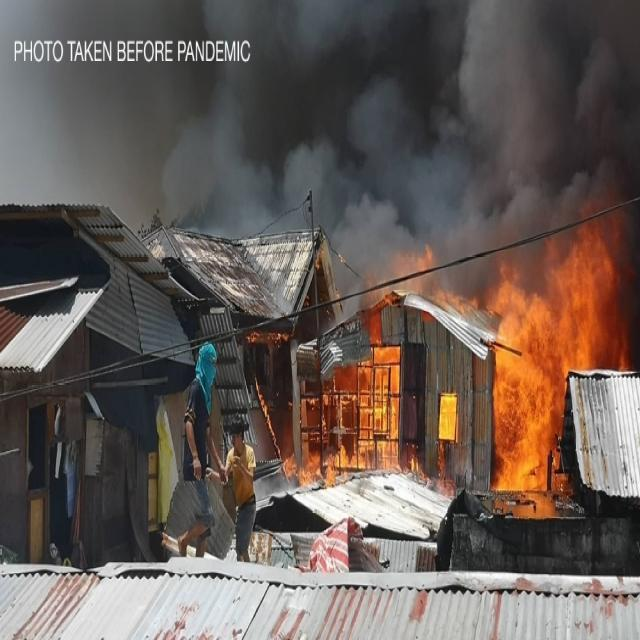Fire: (492, 255, 602, 497), (301, 344, 408, 474), (432, 381, 466, 454), (246, 326, 291, 354), (280, 450, 302, 496)
Smoke: (129, 0, 639, 257)
